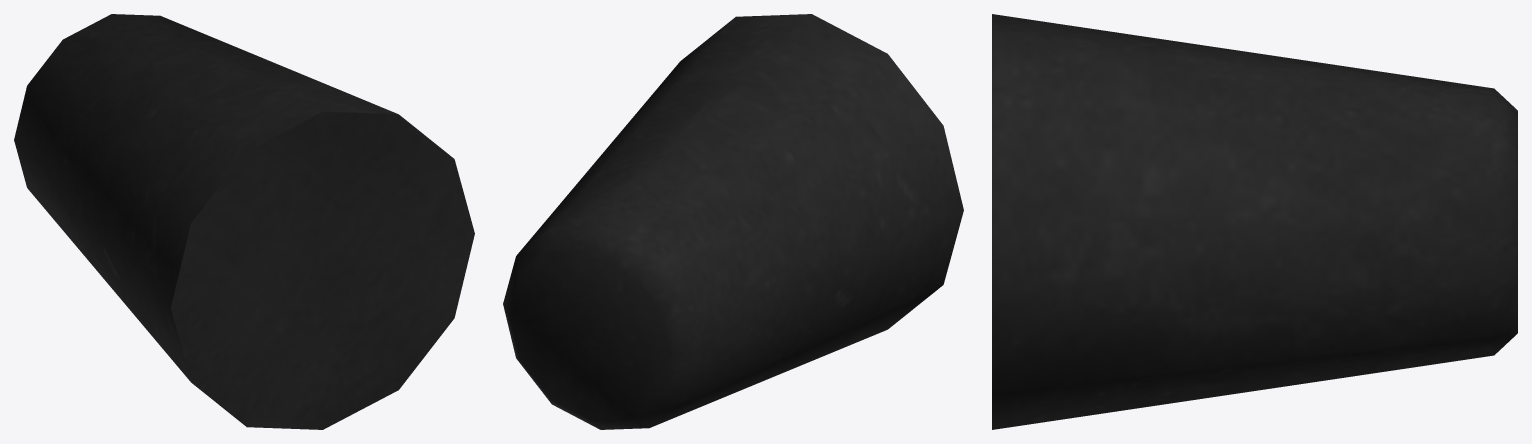
The model's file is xiangjiaosai.FBX.
3 views of the same model, side by side, from view 1: azimuth 30°, elevation 25°; view 2: azimuth 150°, elevation 25°; view 3: azimuth 270°, elevation 25° (orthographic). The views are drawn at different scales.
Parts seen in each view (by area): view 1: xiangjiangsai; view 2: xiangjiangsai; view 3: xiangjiangsai.
Part boxes in pixels (<box>): xiangjiangsai: <box>14,14,474,429</box>; xiangjiangsai: <box>503,14,963,429</box>; xiangjiangsai: <box>992,14,1517,429</box>.
Bounding box in the file's own units: 1.41 × 1.41 × 1.78.
1 material, 1 textured.
